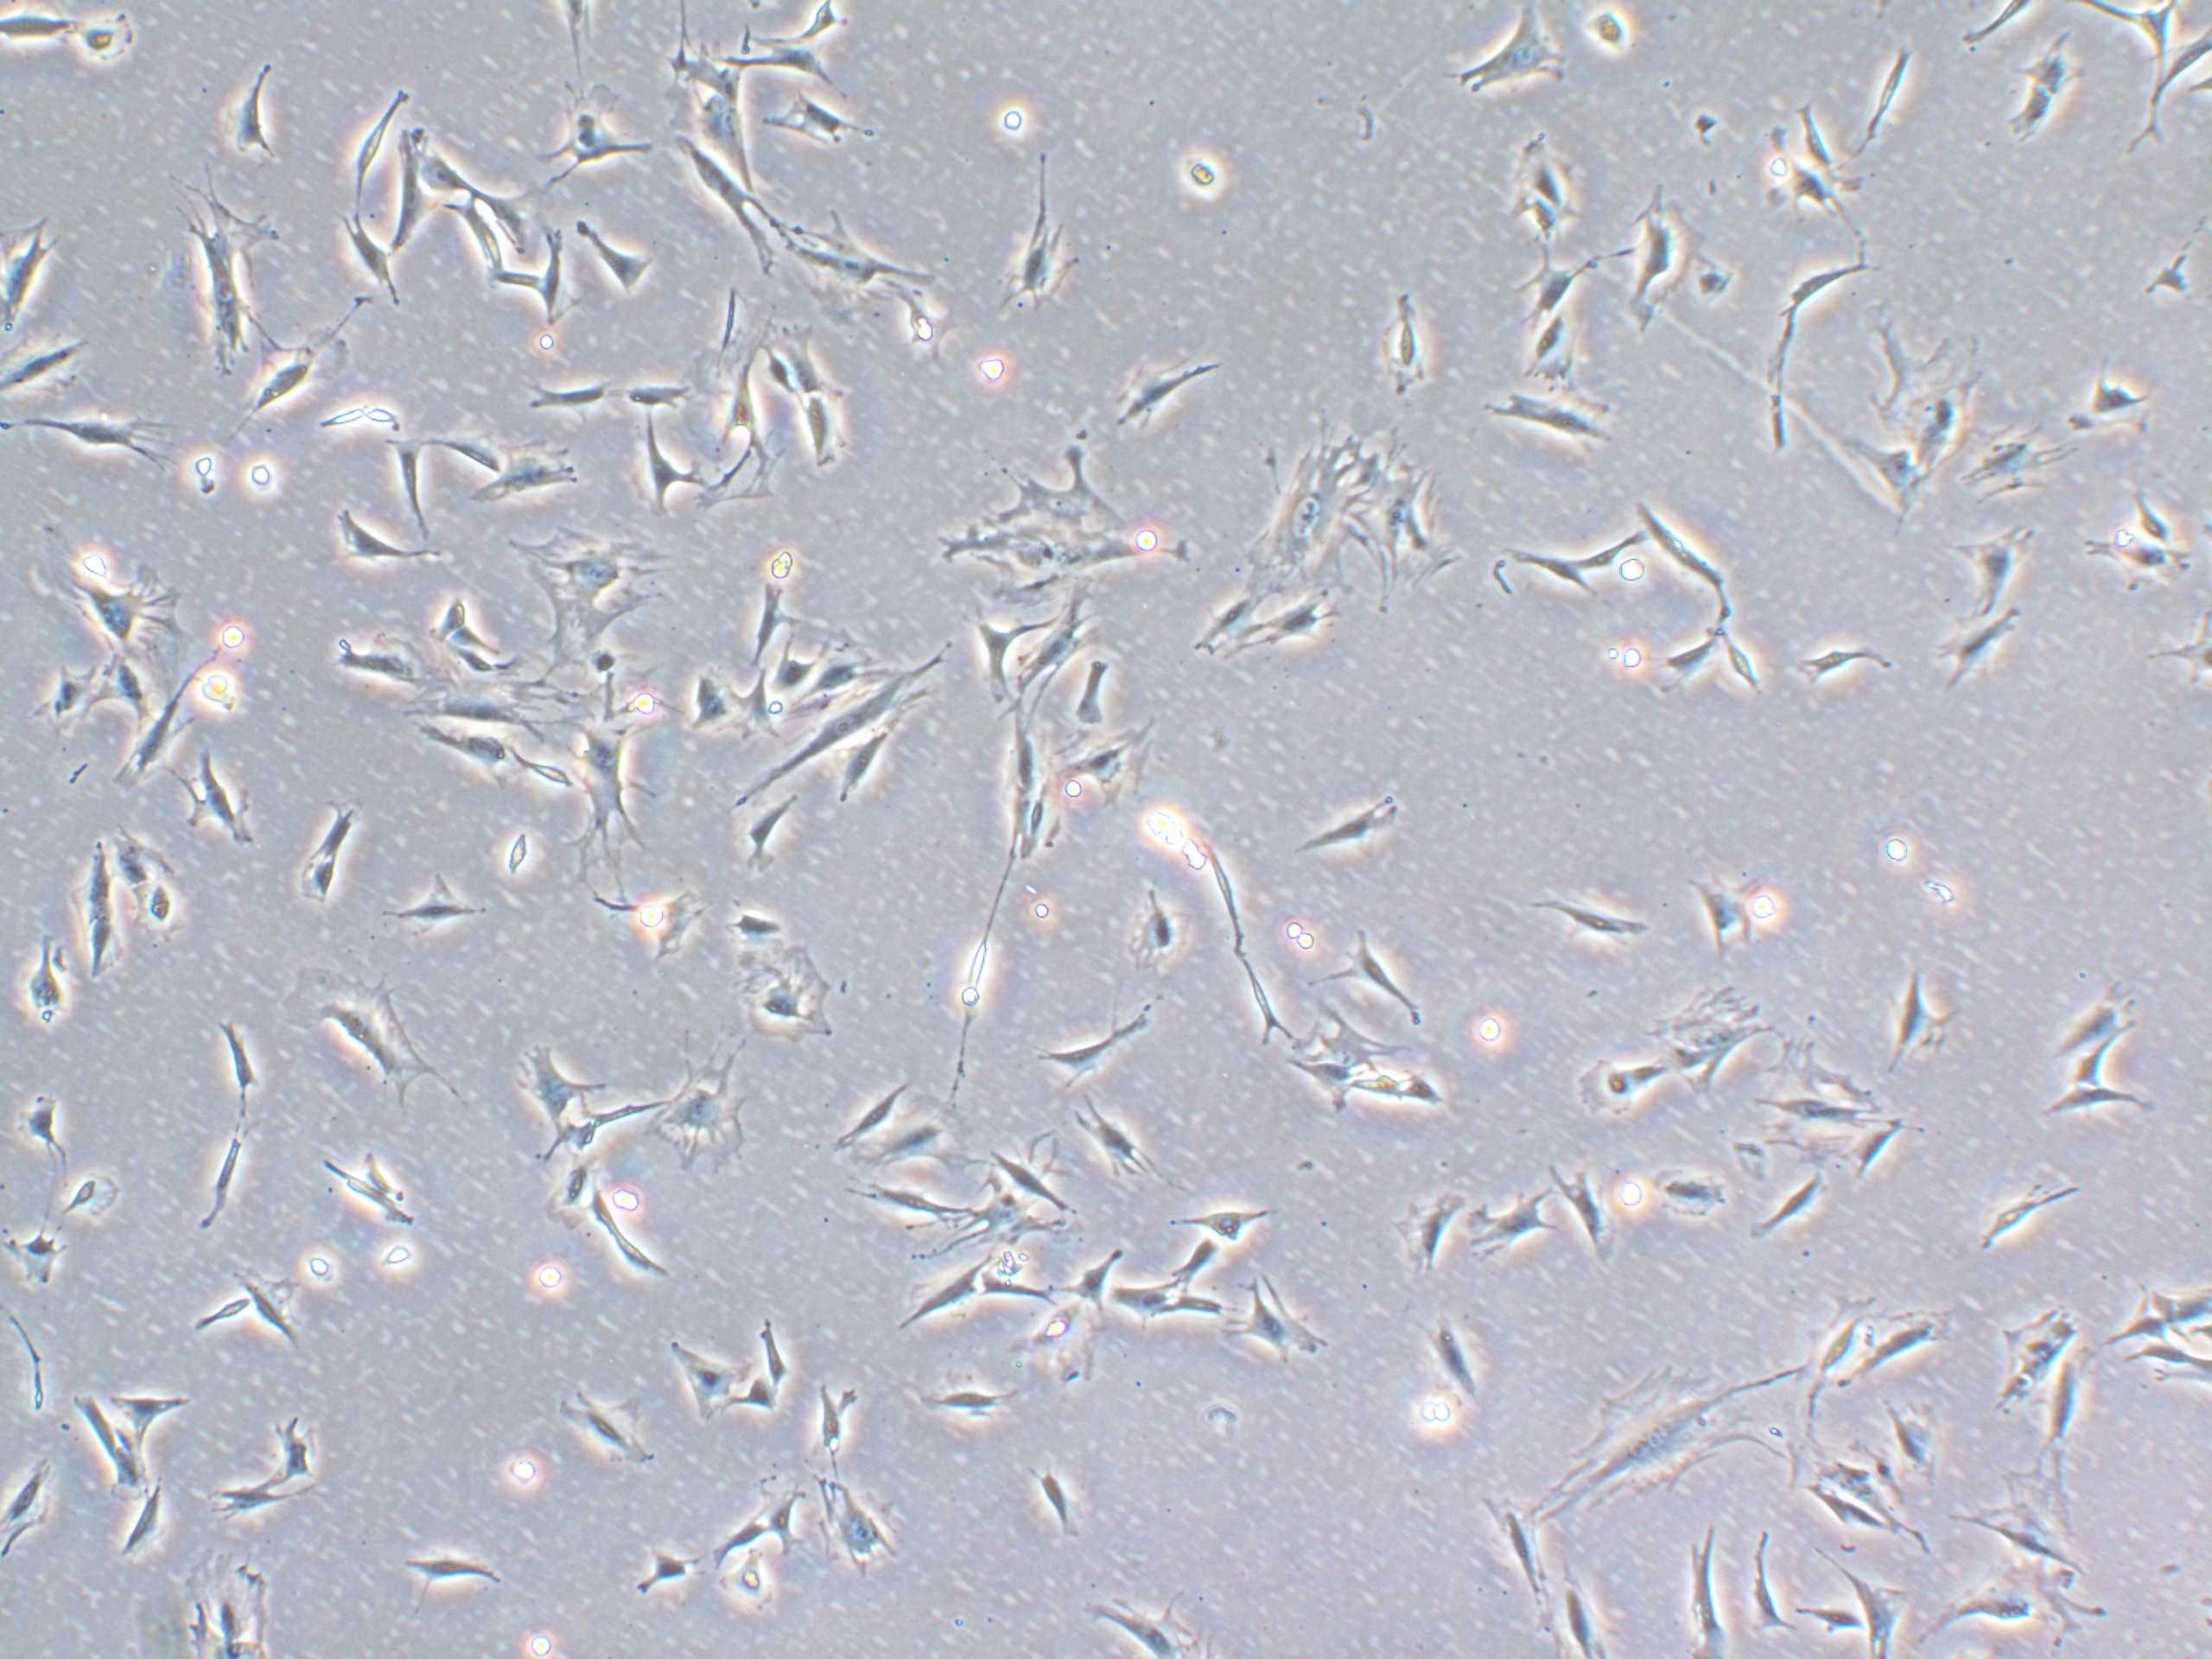small: (1552, 1049, 1648, 1138), (479, 802, 543, 901), (56, 9, 145, 77), (707, 1553, 780, 1626), (225, 458, 289, 509)
spread: (939, 422, 1198, 626), (1540, 1368, 1794, 1521), (26, 502, 197, 711), (263, 951, 455, 1134), (1346, 422, 1487, 650), (1860, 298, 2034, 467), (547, 673, 681, 890), (498, 521, 690, 666), (145, 176, 280, 373), (1224, 415, 1366, 599), (1017, 704, 1205, 842), (1599, 169, 1723, 359), (1737, 1042, 1900, 1178), (1648, 971, 1782, 1119), (1944, 1455, 2121, 1567), (648, 1042, 759, 1199), (1287, 999, 1432, 1117), (1928, 406, 2066, 525), (1827, 430, 1968, 535), (799, 1473, 921, 1593), (737, 931, 857, 1049), (1491, 129, 1585, 270)
